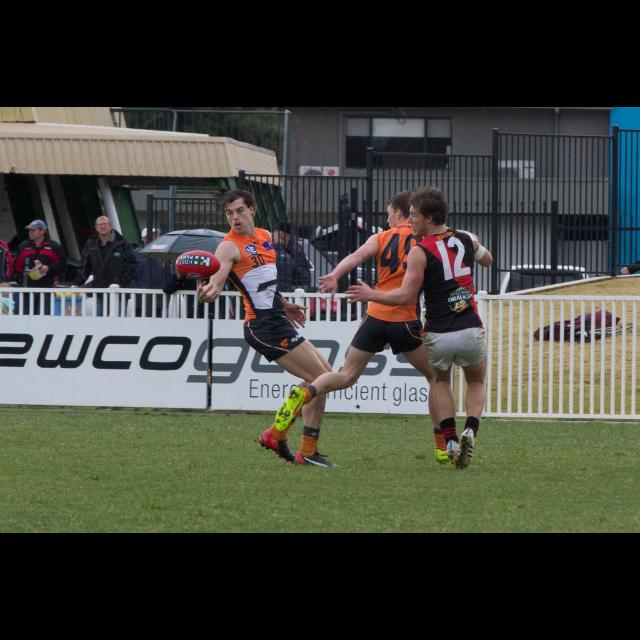Football: (174, 249, 222, 279)
